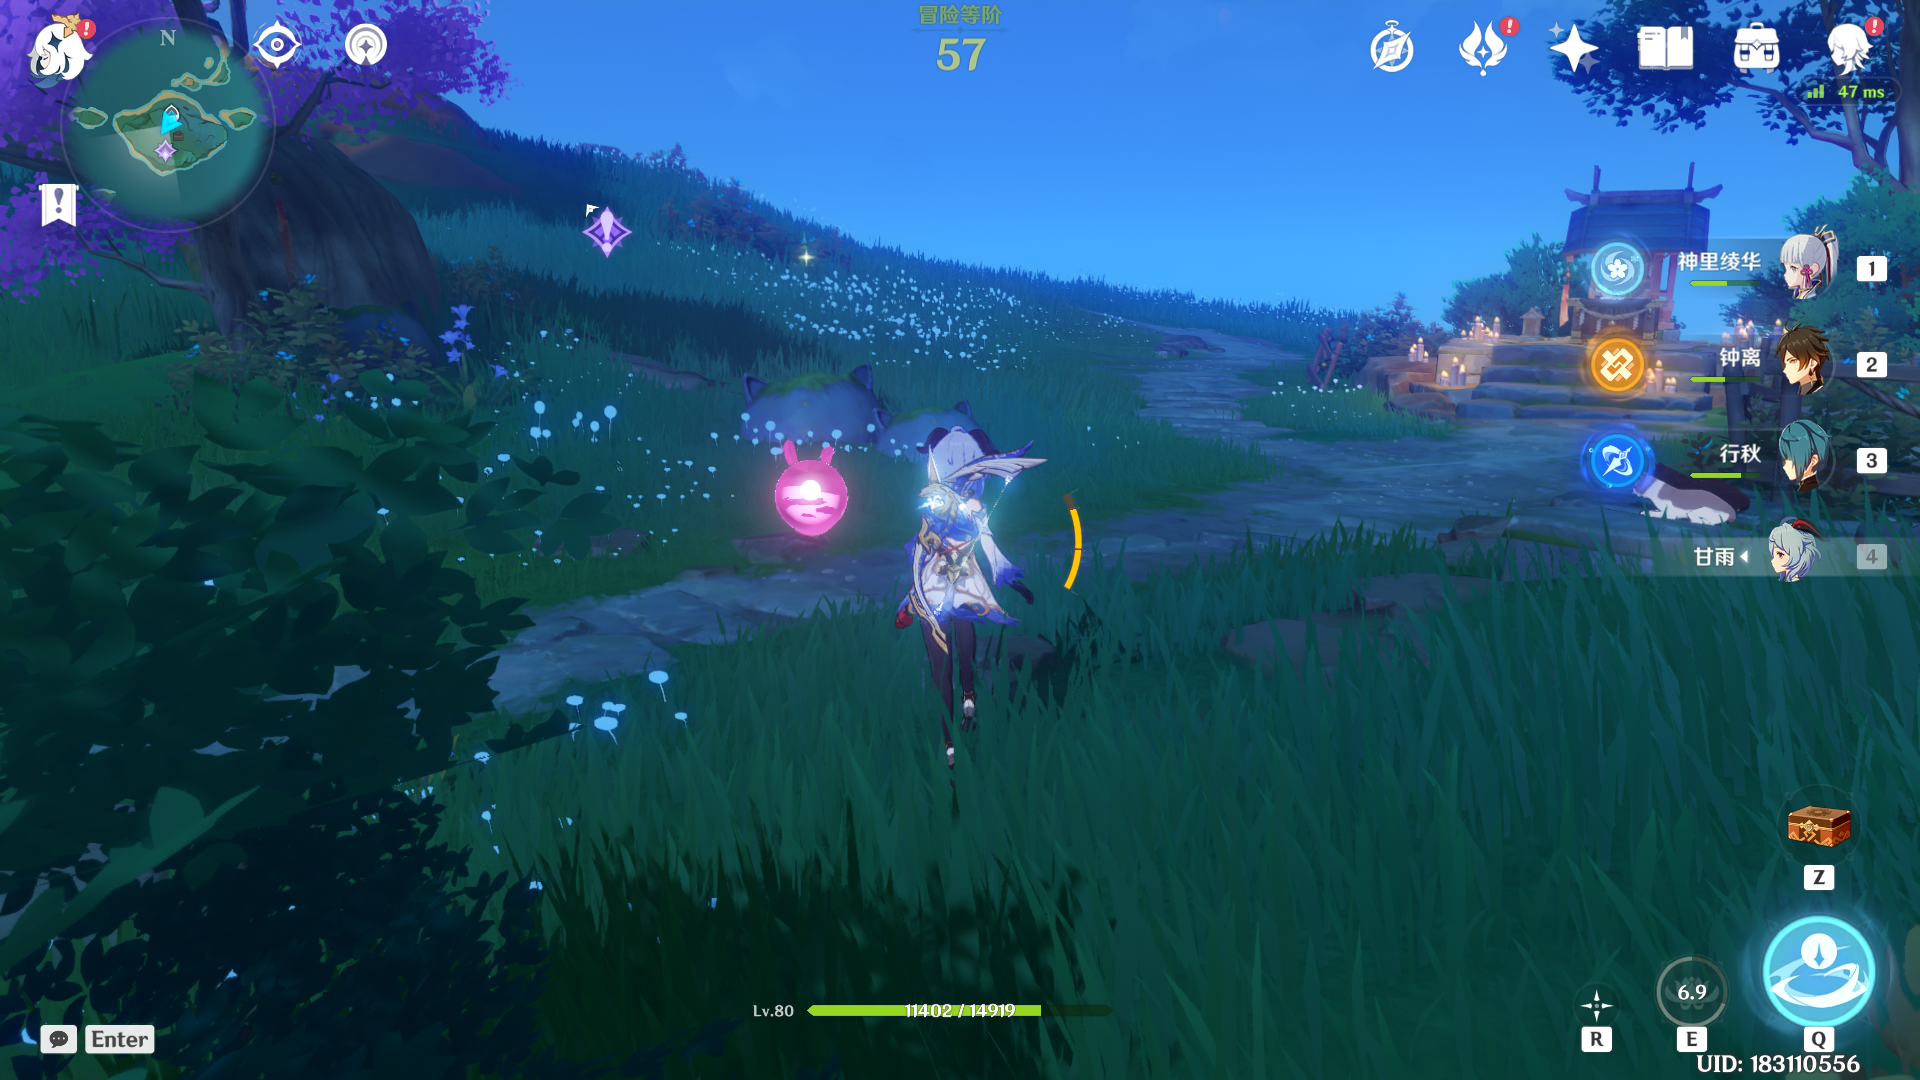character: (829, 386, 1093, 816)
